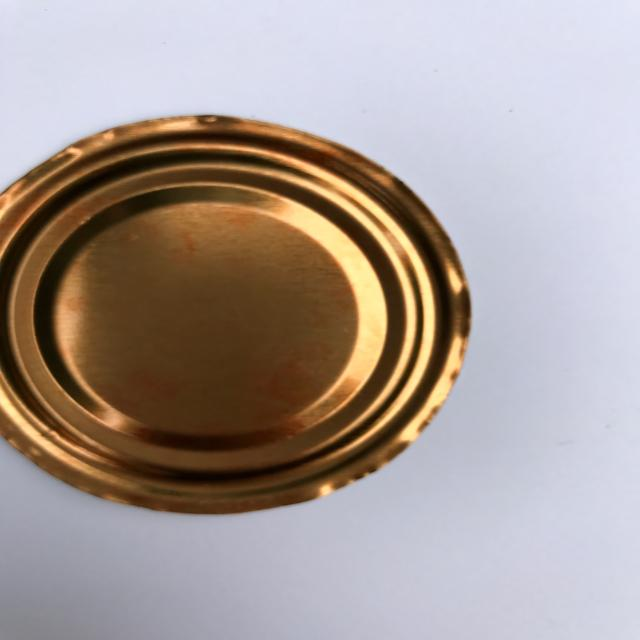metal: (1, 113, 472, 515)
